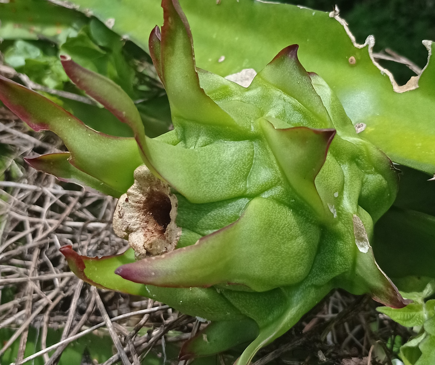Belum Matang: (91, 10, 406, 319)
